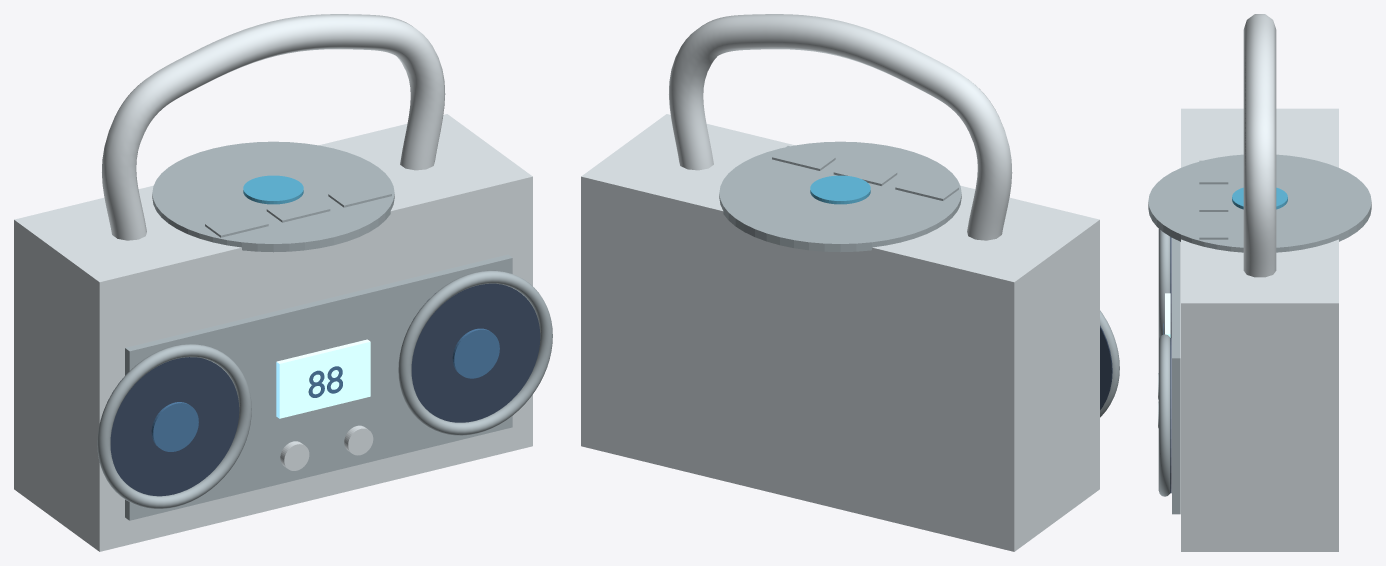
The model's file is cloud_boombox.glb.
3 renders of one model, left to right at view 1: azimuth 30°, elevation 25°; view 2: azimuth 150°, elevation 25°; view 3: azimuth 270°, elevation 25°, orthographic. The views are drawn at different scales.
Parts seen in each view (by area): view 1: Boombox case, Front insert, Carry handle, Top CD lid, Speaker dark grille.001, Speaker dark grille, Speaker silver rim.001, Speaker silver rim, Control display, Speaker dustcap.001, Speaker dustcap, CD lid blue button (+5 smaller); view 2: Boombox case, Carry handle, Top CD lid, CD lid blue button, Top transport key, Top transport key.002, Top transport key.001, Speaker silver rim, Speaker dark grille; view 3: Boombox case, Top CD lid, Carry handle, Front insert, Speaker silver rim.001, Speaker silver rim, Top transport key, Top transport key.001, Top transport key.002, CD lid blue button, Speaker dark grille.001.
Part boxes in pixels (x1,y1,x2,y2): Boombox case: [14, 114, 532, 551]; Front insert: [125, 254, 512, 520]; Carry handle: [102, 14, 445, 240]; Top CD lid: [152, 141, 394, 252]; Speaker dark grille.001: [411, 283, 540, 422]; Speaker dark grille: [107, 357, 239, 496]; Speaker silver rim.001: [398, 270, 552, 435]; Speaker silver rim: [97, 344, 251, 508]; Control display: [276, 339, 370, 418]; Speaker dustcap.001: [452, 328, 499, 378]; Speaker dustcap: [151, 402, 198, 451]; CD lid blue button: [243, 175, 303, 204]; Boombox case: [581, 114, 1099, 551]; Carry handle: [669, 14, 1012, 240]; Top CD lid: [719, 141, 961, 252]; CD lid blue button: [810, 175, 870, 204]; Top transport key: [895, 176, 958, 200]; Top transport key.002: [772, 146, 835, 170]; Top transport key.001: [833, 161, 897, 185]; Speaker silver rim: [1100, 310, 1119, 417]; Speaker dark grille: [1100, 325, 1112, 409]; Boombox case: [1181, 108, 1338, 551]; Top CD lid: [1148, 154, 1371, 252]; Carry handle: [1243, 14, 1276, 277]; Front insert: [1172, 238, 1180, 514]; Speaker silver rim.001: [1158, 334, 1170, 496]; Speaker silver rim: [1158, 228, 1170, 339]; Top transport key: [1199, 160, 1228, 184]; Top transport key.001: [1199, 188, 1228, 211]; Top transport key.002: [1199, 216, 1228, 239]; CD lid blue button: [1232, 187, 1287, 209]; Speaker dark grille.001: [1170, 338, 1171, 493].
Bounding box in the file's own units: 1.99 × 1.86 × 0.92.
